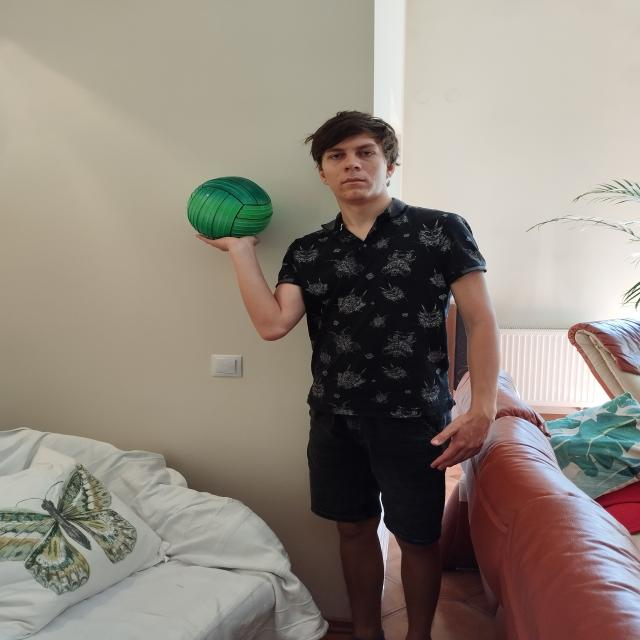zielona: (186, 177, 273, 239)
